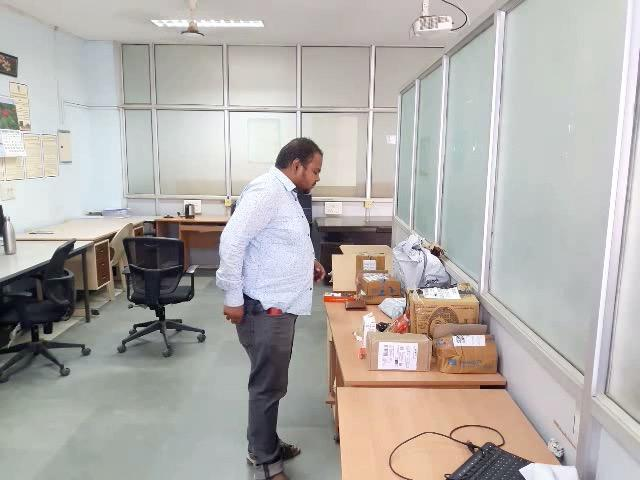shoplifting: (155, 258, 342, 366)
